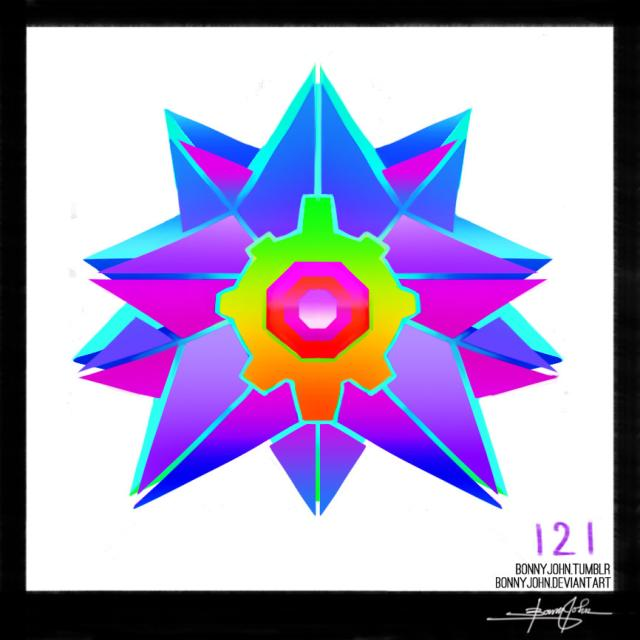Starmie: (125, 105, 502, 506)
